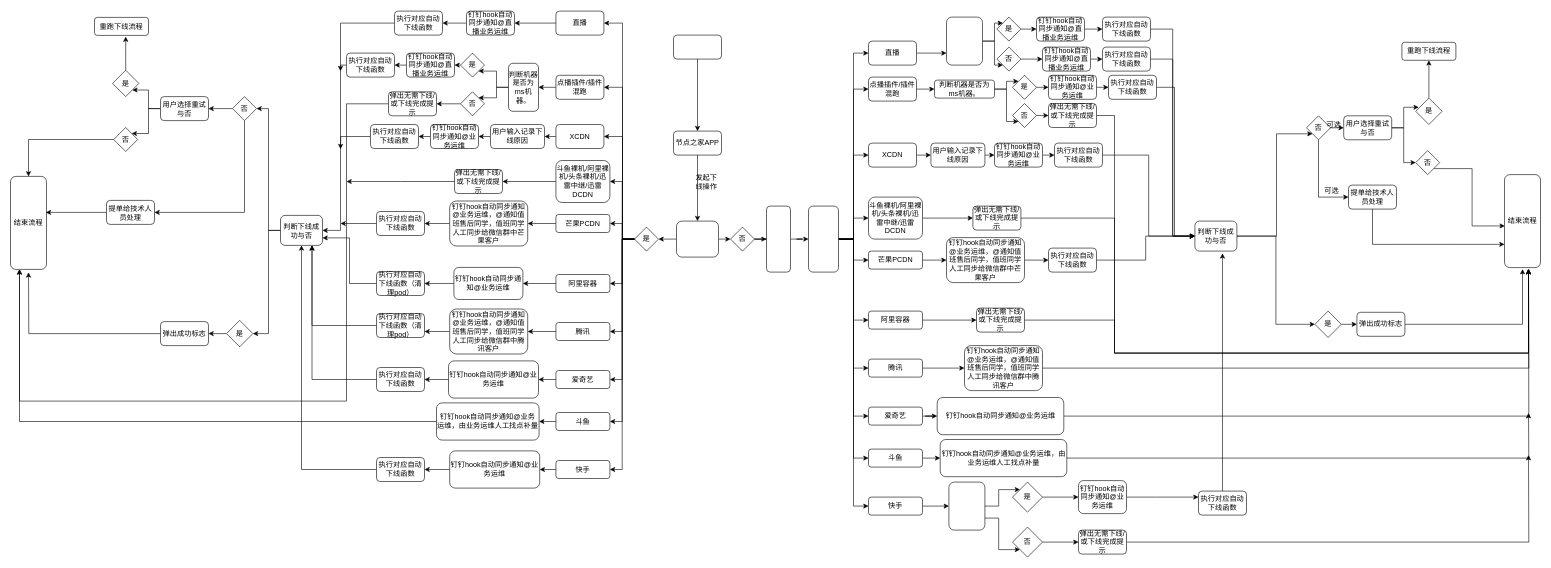
This 1551x568 diagram has some shape labels left out. Here are the shapes that lost their labels. From the top down, the centre of each, then its label:
At pixel 697 46: "开始".
At pixel 964 40: "判断当前时间，是否在18:00-23:00".
At pixel 697 238: "是否永久下线".
At pixel 778 239: "用户输入机器下线时间长度。".
At pixel 823 239: "自动判断机器业务函数".
At pixel 966 506: "判断下线时间是否超过7天".
